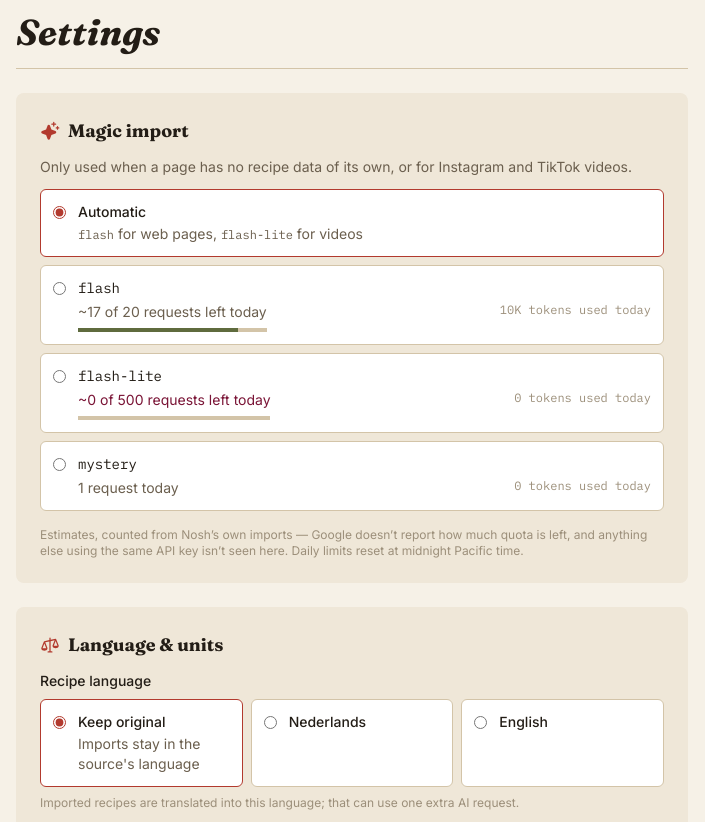
Test case: SettingsPage — magic import › reverts the choice and toasts when saving fails
Click the radio button labelled "mystery 1 request today 0 tokens used today".
click(60, 464)  # box [53,458,66,471]
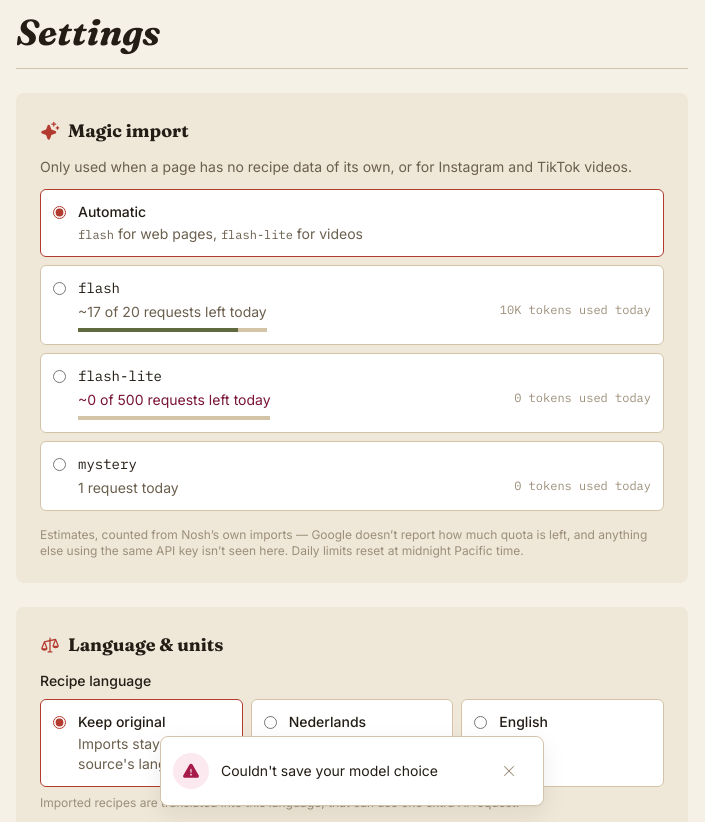
Check: the radio button labelled "Automatic flash for web pages, flash-lite for videos" is checked, box [53,206,66,219]
Check: the text "Couldn't save your model choice" is shown, box [221,761,475,781]
